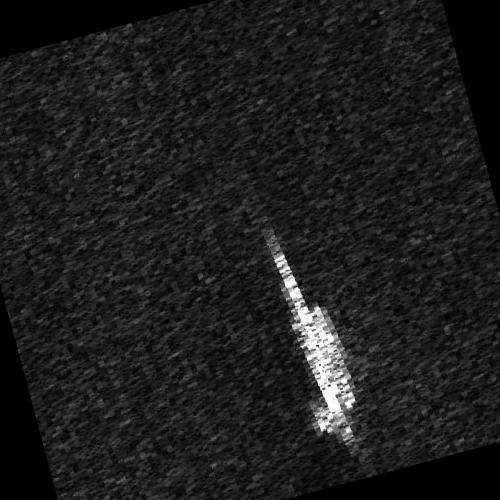ship: (270, 243, 358, 449)
